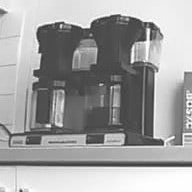not empty coffee: (78, 74, 138, 135)
